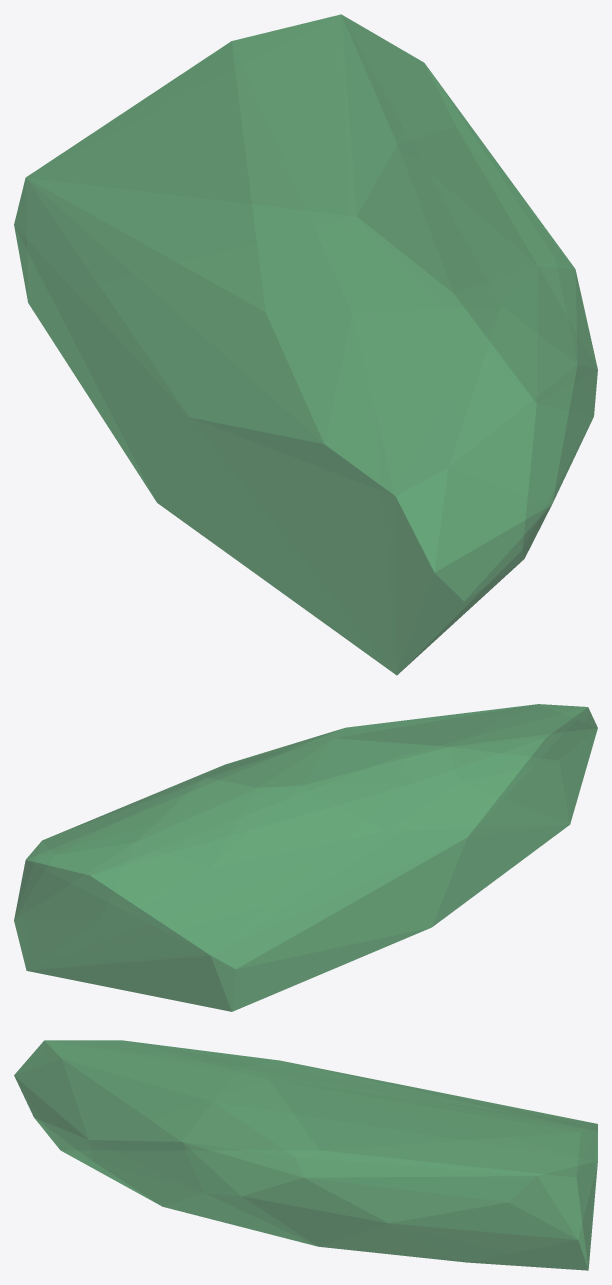
3 views of the same model, one above another, from view 1: azimuth 30°, elevation 25°; view 2: azimuth 150°, elevation 25°; view 3: azimuth 270°, elevation 25° (orthographic). The views are drawn at different scales.
Parts seen in each view (by area): view 1: Shape_IndexedFaceSet.008_Shape_IndexedFaceSet.4354; view 2: Shape_IndexedFaceSet.008_Shape_IndexedFaceSet.4354; view 3: Shape_IndexedFaceSet.008_Shape_IndexedFaceSet.4354.
Boxes of the visible parts, left/top/right/bottom form: Shape_IndexedFaceSet.008_Shape_IndexedFaceSet.4354: left=14, top=14, right=597, bottom=675; Shape_IndexedFaceSet.008_Shape_IndexedFaceSet.4354: left=14, top=704, right=597, bottom=1011; Shape_IndexedFaceSet.008_Shape_IndexedFaceSet.4354: left=14, top=1040, right=597, bottom=1270.
Bounding box in the file's own units: 0.2286 × 0.0954 × 0.4314.
